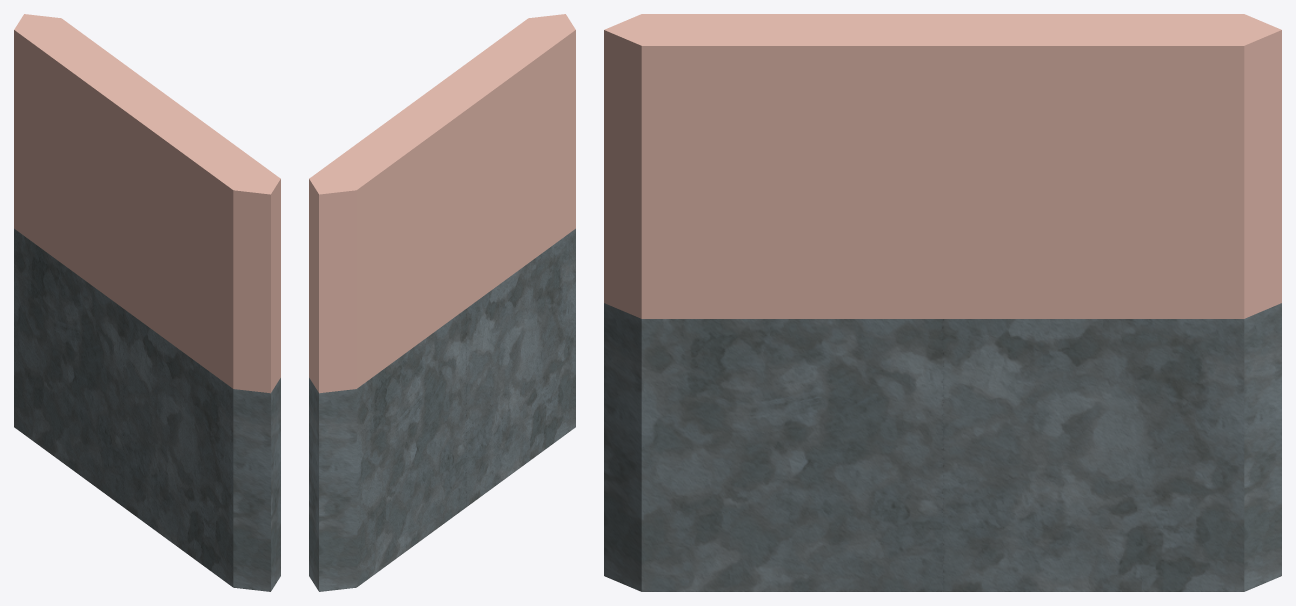
The model's file is wall_twotoneHalf.fbx.
3 views of the same model, side by side, from view 1: azimuth 30°, elevation 25°; view 2: azimuth 150°, elevation 25°; view 3: azimuth 270°, elevation 25° (orthographic). The views are drawn at different scales.
Visible parts, largest first — view 1: wall_paintDual; view 2: wall_paintDual; view 3: wall_paintDual.
Part boxes in pixels (bbox=[...]): wall_paintDual: bbox=[14, 14, 280, 591]; wall_paintDual: bbox=[309, 14, 575, 591]; wall_paintDual: bbox=[604, 14, 1281, 591].
Bounding box in the file's own units: 1.25 × 10 × 11.25.
Materials: 2 (1 with a texture image).
